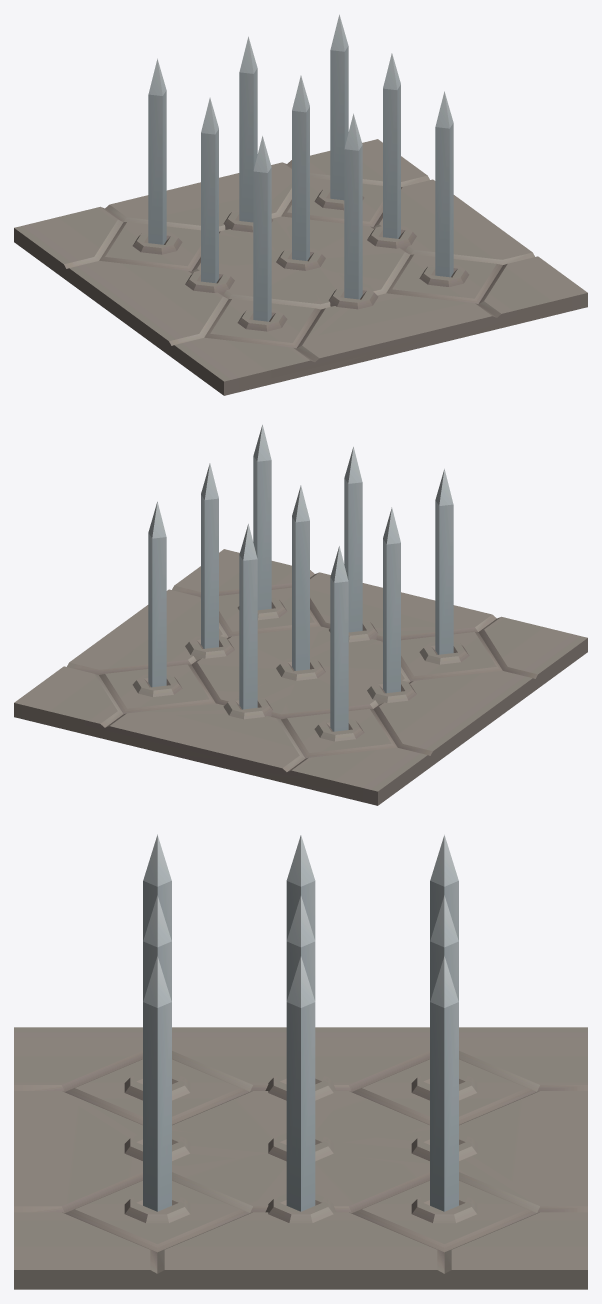
Rendered from floor_tile_big_spikes.glb.
The picture shows the model from 3 angles, top to bottom: view 1: azimuth 30°, elevation 25°; view 2: azimuth 150°, elevation 25°; view 3: azimuth 270°, elevation 25°; orthographic projection. The views are drawn at different scales.
Visible parts, largest first — view 1: Cube.14376, spikes; view 2: Cube.14376, spikes; view 3: Cube.14376, spikes.
Part boxes in pixels (<box>): Cube.14376: <box>14,139,587,395</box>; spikes: <box>148,14,453,321</box>; Cube.14376: <box>14,549,587,805</box>; spikes: <box>148,424,453,731</box>; Cube.14376: <box>14,1027,587,1289</box>; spikes: <box>143,834,458,1211</box>.
Bounding box in the file's own units: 4 × 2.1 × 4.
1 material, 1 textured.
